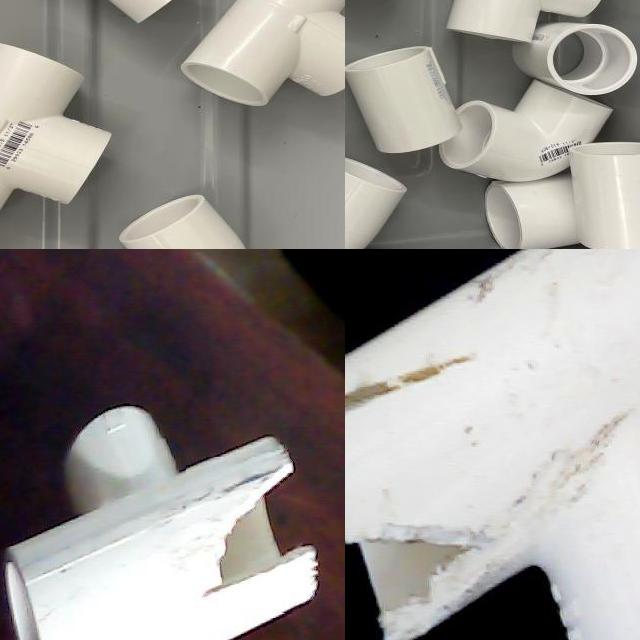Defective: (345, 493, 518, 640), (186, 458, 342, 614), (506, 412, 640, 519), (345, 345, 490, 443), (450, 249, 634, 324)
L Joint: (117, 196, 245, 249), (345, 158, 408, 249)
T Joint: (345, 249, 640, 640), (2, 406, 320, 640), (0, 44, 107, 217), (445, 0, 601, 43)
